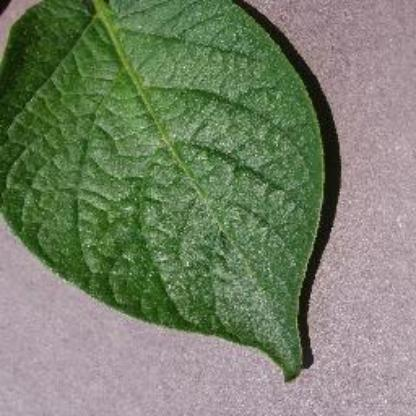Healthy-plant: (1, 0, 410, 369)
